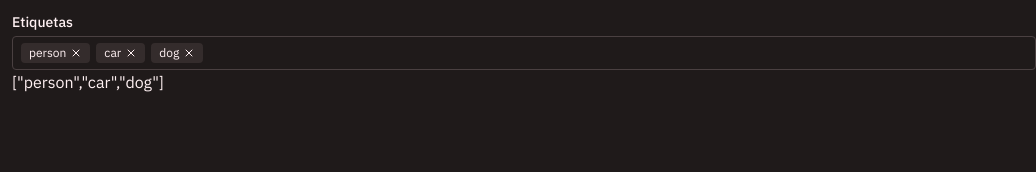
Test: TagInput › removes a tag with its button and with Backspace on an empty input
Click the button named "Quitar person". click: (76, 53)
box: [70, 47, 82, 59]
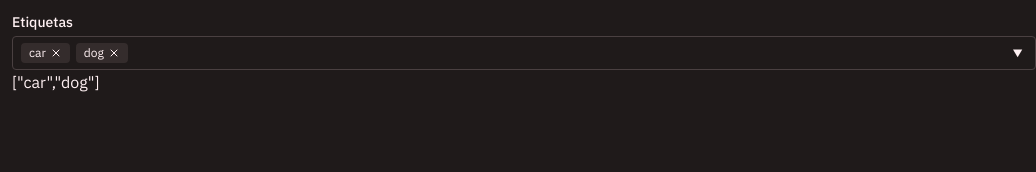
Expected: the text with test id "value" reads "[\"car\",\"dog\"]", [12, 72, 100, 92]
Press Backspace in the field labelled "Etiquetas", box [134, 43, 1027, 63]
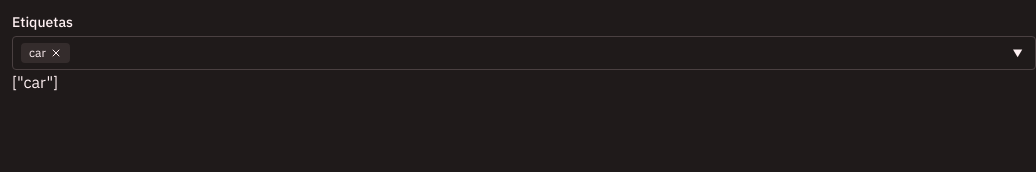
Expected: the text with test id "value" reads "[\"car\"]", [12, 72, 58, 92]
